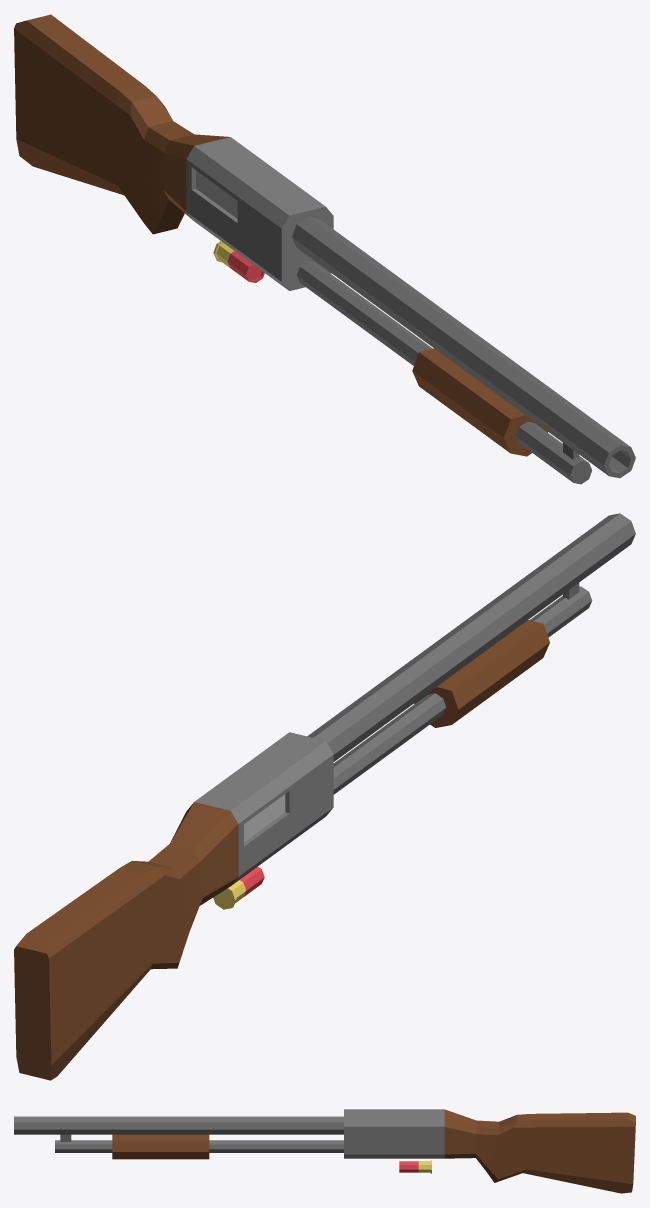
File: Shotgun.glb
3 renders of one model, top to bottom at view 1: azimuth 30°, elevation 25°; view 2: azimuth 150°, elevation 25°; view 3: azimuth 270°, elevation 25°, orthographic. The views are drawn at different scales.
Visible parts, largest first — view 1: StockBody, Barrels, Pump, Cylinder; view 2: StockBody, Barrels, Pump, Cylinder; view 3: StockBody, Barrels, Pump, Cylinder.
Boxes of the visible parts, x1,y1,x2,y2 form: StockBody: (14,14,333,290); Barrels: (292,216,635,484); Pump: (412,348,547,456); Cylinder: (213,241,264,282); StockBody: (14,732,333,1080); Barrels: (307,513,635,794); Pump: (414,620,549,727); Cylinder: (213,866,264,909); StockBody: (344,1109,635,1193); Barrels: (14,1116,343,1152); Pump: (112,1134,209,1159); Cylinder: (399,1160,431,1173).
Bounding box in the file's own units: 3 × 7.96 × 58.75.
